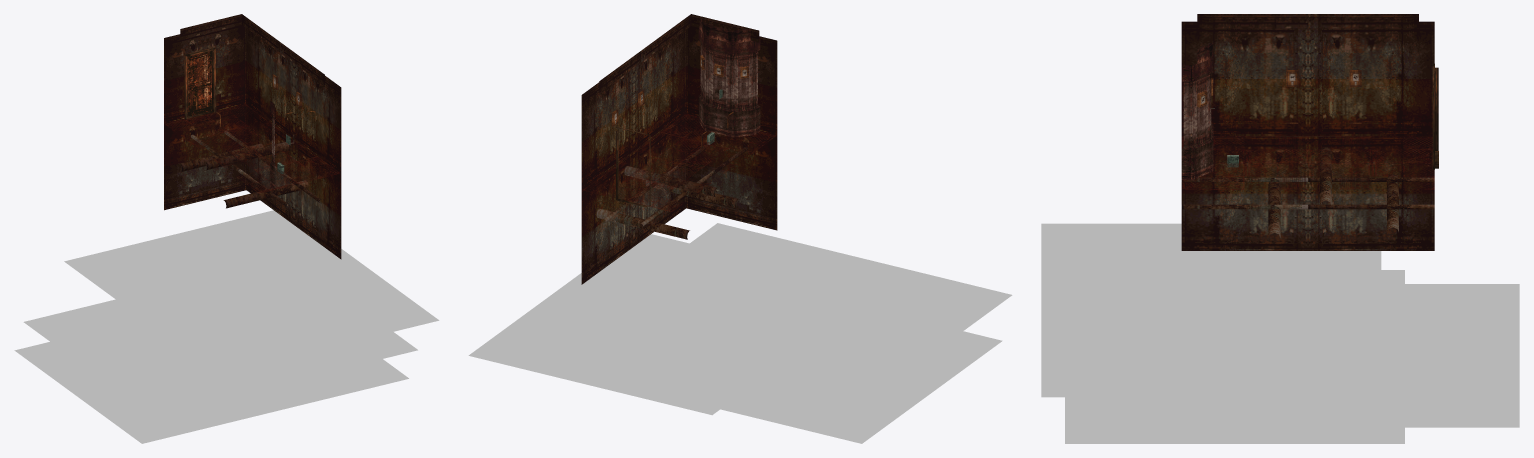
File: ERFCFC.glb
3 views of the same model, side by side, from view 1: azimuth 30°, elevation 25°; view 2: azimuth 150°, elevation 25°; view 3: azimuth 270°, elevation 25° (orthographic). The views are drawn at different scales.
Visible parts, largest first — view 1: STONE1_H_m0, KUBOMI_H_m0, NL_BACK_m2, NL_BACK2_m1, STONE3_H_m0, NL_BACK_m1, NL_BACK_m0, NL_BACK2_m3, NL_BACK2_m2, NL_m0, NL_BACK2_m4; view 2: STONE1_H_m0, KUBOMI_H_m0, STONE3_H_m0, NL_BACK_m2, NL_BACK2_m1, NL_BACK2_m0, NL_m0, NL_BACK_m1, NL_BACK_m3, NL_BACK2_m3, NL_BACK2_m2, NL_BACK2_m4; view 3: STONE1_H_m0, KUBOMI_H_m0, NL_BACK_m3, NL_BACK2_m0, NL_BACK_m1, STONE3_H_m0, NL_m0, NL_BACK2_m2, NL_BACK2_m3, NL_BACK2_m4, NL_BACK_m0.
Boxes of the visible parts, x1=… form: STONE1_H_m0: x1=23, y1=134, x2=417, y2=415; KUBOMI_H_m0: x1=64, y1=134, x2=439, y2=331; NL_BACK_m2: x1=164, y1=14, x2=341, y2=172; NL_BACK2_m1: x1=164, y1=104, x2=341, y2=259; STONE3_H_m0: x1=14, y1=162, x2=408, y2=443; NL_BACK_m1: x1=164, y1=104, x2=340, y2=193; NL_BACK_m0: x1=184, y1=47, x2=216, y2=119; NL_BACK2_m3: x1=178, y1=143, x2=308, y2=208; NL_BACK2_m2: x1=205, y1=130, x2=320, y2=202; NL_m0: x1=192, y1=74, x2=301, y2=189; NL_BACK2_m4: x1=191, y1=134, x2=287, y2=206; STONE1_H_m0: x1=577, y1=89, x2=1012, y2=397; KUBOMI_H_m0: x1=468, y1=88, x2=769, y2=415; STONE3_H_m0: x1=707, y1=132, x2=1002, y2=443; NL_BACK_m2: x1=581, y1=14, x2=691, y2=189; NL_BACK2_m1: x1=581, y1=114, x2=686, y2=284; NL_BACK2_m0: x1=686, y1=113, x2=777, y2=230; NL_m0: x1=611, y1=16, x2=760, y2=148; NL_BACK_m1: x1=582, y1=113, x2=776, y2=211; NL_BACK_m3: x1=686, y1=14, x2=777, y2=135; NL_BACK2_m3: x1=596, y1=180, x2=739, y2=239; NL_BACK2_m2: x1=603, y1=143, x2=718, y2=221; NL_BACK2_m4: x1=640, y1=147, x2=747, y2=226; STONE1_H_m0: x1=1041, y1=108, x2=1381, y2=397; KUBOMI_H_m0: x1=1108, y1=284, x2=1519, y2=427; NL_BACK_m3: x1=1181, y1=14, x2=1434, y2=136; NL_BACK2_m0: x1=1181, y1=136, x2=1434, y2=250; NL_BACK_m1: x1=1181, y1=136, x2=1434, y2=189; STONE3_H_m0: x1=1065, y1=155, x2=1404, y2=443; NL_m0: x1=1181, y1=42, x2=1361, y2=179; NL_BACK2_m2: x1=1181, y1=147, x2=1434, y2=209; NL_BACK2_m3: x1=1268, y1=174, x2=1398, y2=237; NL_BACK2_m4: x1=1181, y1=177, x2=1434, y2=181; NL_BACK_m0: x1=1432, y1=63, x2=1438, y2=169.
Size of the model in its own units: 12.2 by 10.25 by 12.1.
11 materials, 10 textured.
